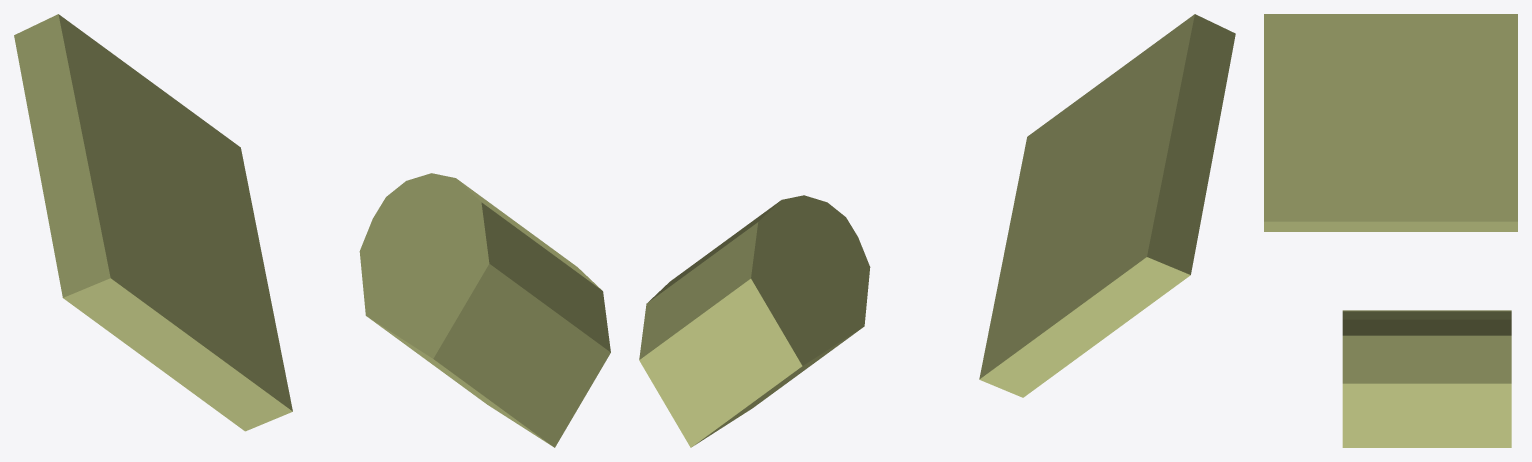
3 views of the same model, side by side, from view 1: azimuth 30°, elevation 25°; view 2: azimuth 150°, elevation 25°; view 3: azimuth 270°, elevation 25° (orthographic). The views are drawn at different scales.
Visible parts, largest first — view 1: 0_1_3_2_1_2_2_3_3_0; view 2: 0_1_3_2_1_2_2_3_3_0; view 3: 0_1_3_2_1_2_2_3_3_0.
Boxes of the visible parts, x1,y1,x2,y2 form: 0_1_3_2_1_2_2_3_3_0: (14,14,610,447); 0_1_3_2_1_2_2_3_3_0: (639,14,1235,447); 0_1_3_2_1_2_2_3_3_0: (1264,14,1517,447).
Bounding box in the file's own units: 13.42 × 11.76 × 9.
